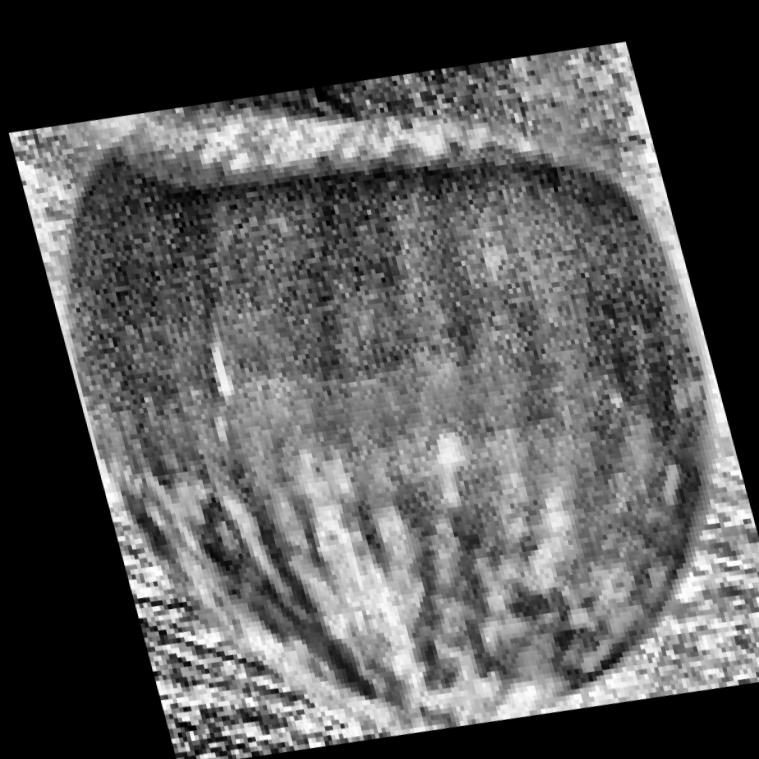qualityHazelnut: (1, 5, 759, 759)
